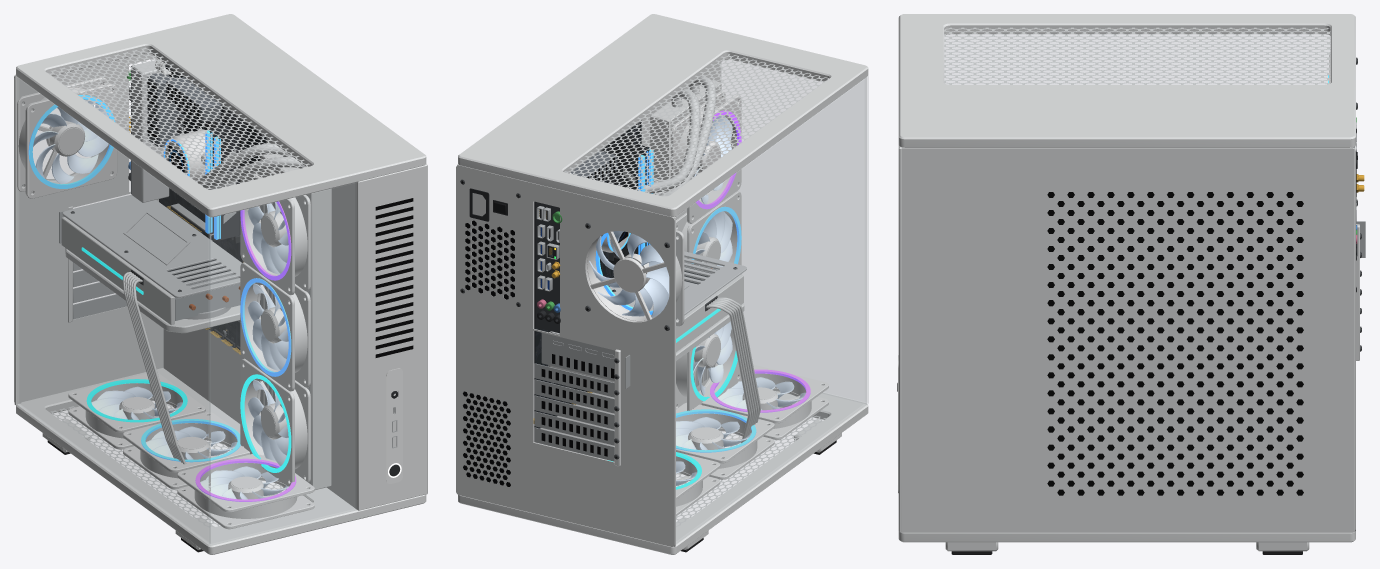
File: panoramic-gaming-pc.glb
The picture shows the model from 3 angles, left to right: view 1: azimuth 30°, elevation 25°; view 2: azimuth 150°, elevation 25°; view 3: azimuth 270°, elevation 25°; orthographic projection. The views are drawn at different scales.
Parts seen in each view (by area): view 1: Case, Side_Glass, Front_Glass, Rear_Fan, Side_Fan_2, Side_Fan_1, Side_Fan_3, Bottom_Fan_3, Bottom_Fan_1, Bottom_Fan_2; view 2: Case, Side_Glass, Front_Glass, Rear_Fan, Bottom_Fan_2, Side_Fan_1, Bottom_Fan_3, Side_Fan_2, Side_Fan_3; view 3: Case, Side_Glass.
Boxes of the visible parts, bbox=[...] form: Case: bbox=[14, 14, 427, 554]; Side_Glass: bbox=[17, 77, 210, 543]; Front_Glass: bbox=[209, 183, 356, 545]; Rear_Fan: bbox=[33, 99, 108, 184]; Side_Fan_2: bbox=[247, 283, 288, 370]; Side_Fan_1: bbox=[247, 379, 288, 466]; Side_Fan_3: bbox=[247, 202, 288, 274]; Bottom_Fan_3: bbox=[200, 466, 288, 499]; Bottom_Fan_1: bbox=[91, 386, 182, 419]; Bottom_Fan_2: bbox=[146, 426, 237, 459]; Case: bbox=[456, 14, 868, 554]; Side_Glass: bbox=[676, 77, 866, 543]; Front_Glass: bbox=[721, 60, 868, 403]; Rear_Fan: bbox=[589, 231, 669, 317]; Bottom_Fan_2: bbox=[676, 417, 751, 450]; Side_Fan_1: bbox=[693, 321, 732, 395]; Bottom_Fan_3: bbox=[718, 377, 805, 410]; Side_Fan_2: bbox=[694, 211, 732, 269]; Side_Fan_3: bbox=[694, 115, 732, 204]; Case: bbox=[897, 14, 1365, 554]; Side_Glass: bbox=[944, 34, 1330, 84].
Bounding box in the file's own units: 0.2906 × 0.46 × 0.4609.
49 materials, 4 textured.
